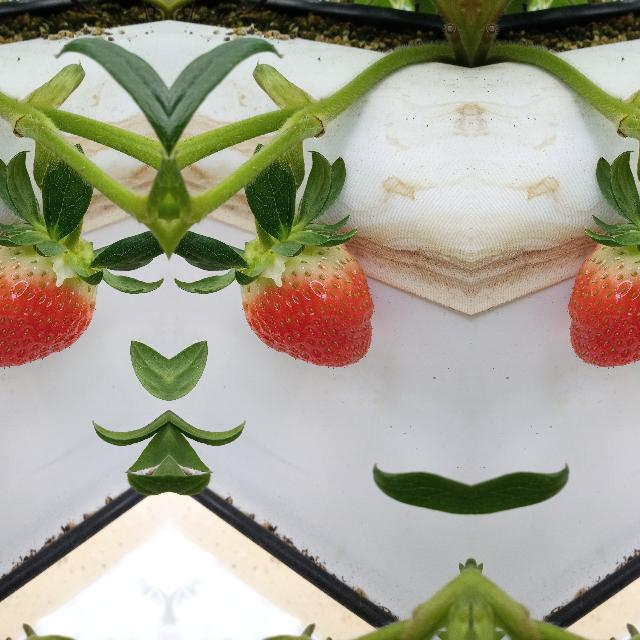Health_100: (240, 234, 374, 368), (0, 234, 96, 368), (567, 234, 640, 368)
